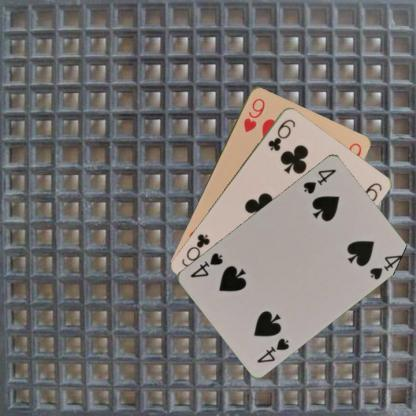4s: (300, 166, 338, 195), (254, 335, 291, 364)
6c: (265, 116, 297, 152)
9h: (240, 96, 266, 134)
